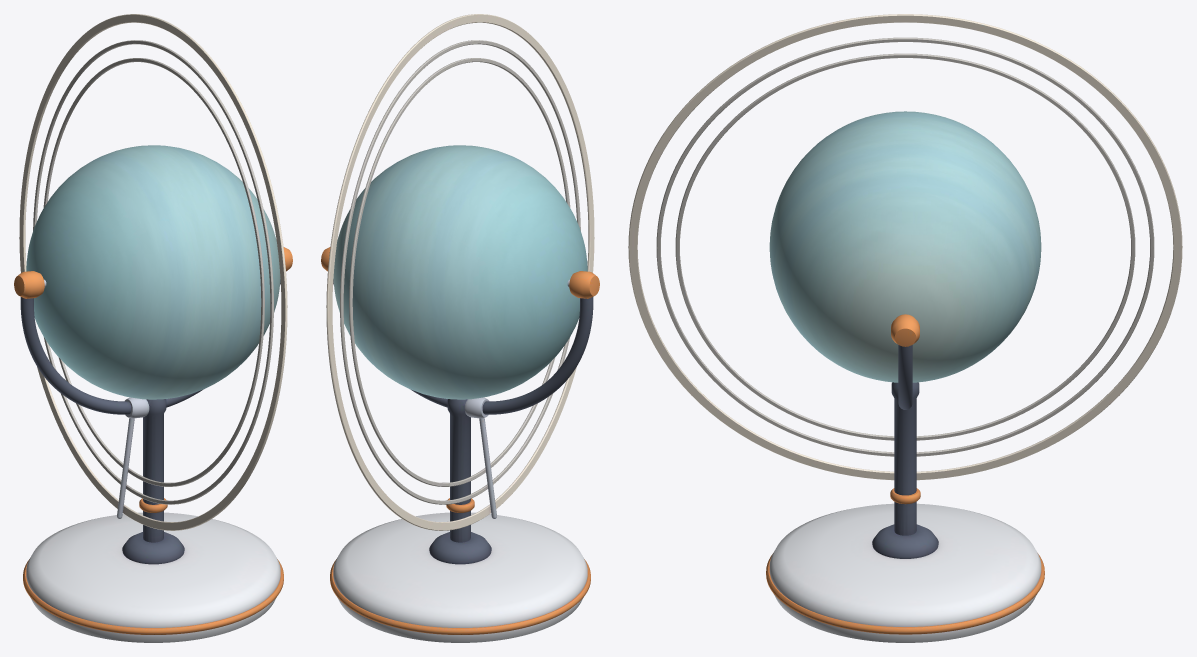
File: uranus.glb
The picture shows the model from 3 angles, left to right: view 1: azimuth 30°, elevation 25°; view 2: azimuth 150°, elevation 25°; view 3: azimuth 270°, elevation 25°; orthographic projection. The views are drawn at different scales.
Visible parts, largest first — view 1: uranus_body, uranus_sphere; view 2: uranus_body, uranus_sphere; view 3: uranus_body, uranus_sphere.
Boxes of the visible parts, <box> form: uranus_body: <box>14,14,292,642</box>; uranus_sphere: <box>26,145,280,399</box>; uranus_body: <box>321,14,599,642</box>; uranus_sphere: <box>333,145,587,399</box>; uranus_body: <box>628,14,1182,642</box>; uranus_sphere: <box>769,111,1041,382</box>.
Size of the model in its own units: 0.2703 by 0.5307 by 0.4484.
2 materials, 2 textured.
